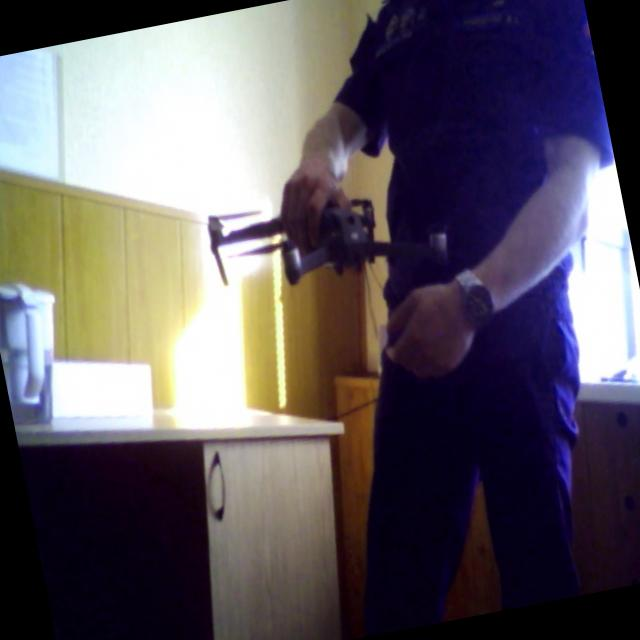drone: (180, 136, 483, 333)
